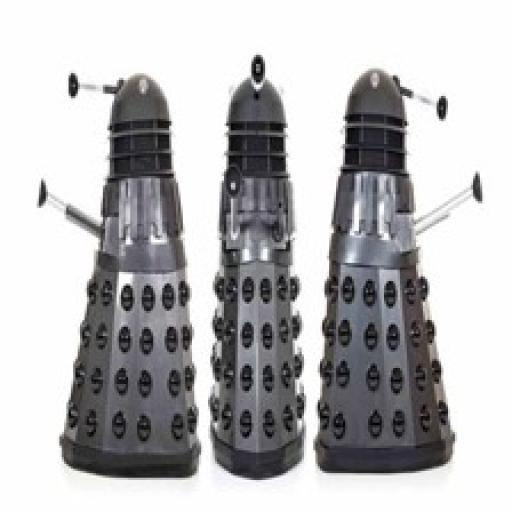dalek: (313, 64, 487, 477), (32, 70, 203, 480), (208, 52, 305, 478)
